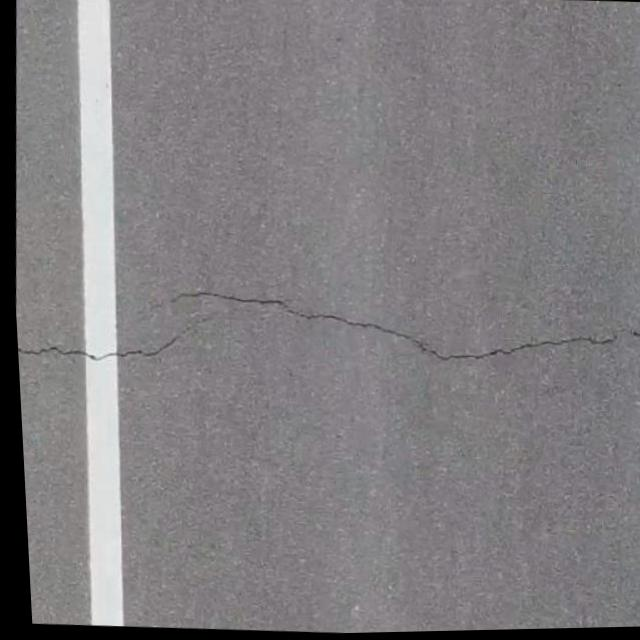Crack: (11, 268, 640, 403)
